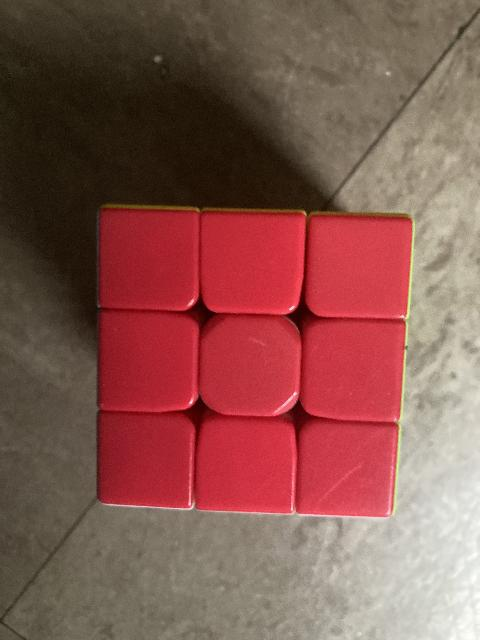Red: (305, 322, 397, 422), (205, 214, 299, 310), (310, 218, 404, 312), (206, 319, 299, 413), (103, 210, 195, 304), (102, 314, 194, 408), (98, 416, 192, 504), (199, 423, 293, 507), (300, 424, 390, 510)
